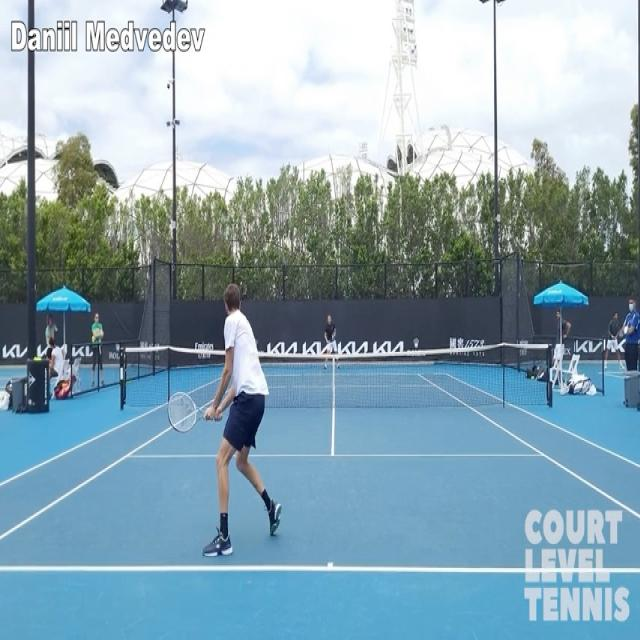backhand-ready: (171, 281, 300, 558)
